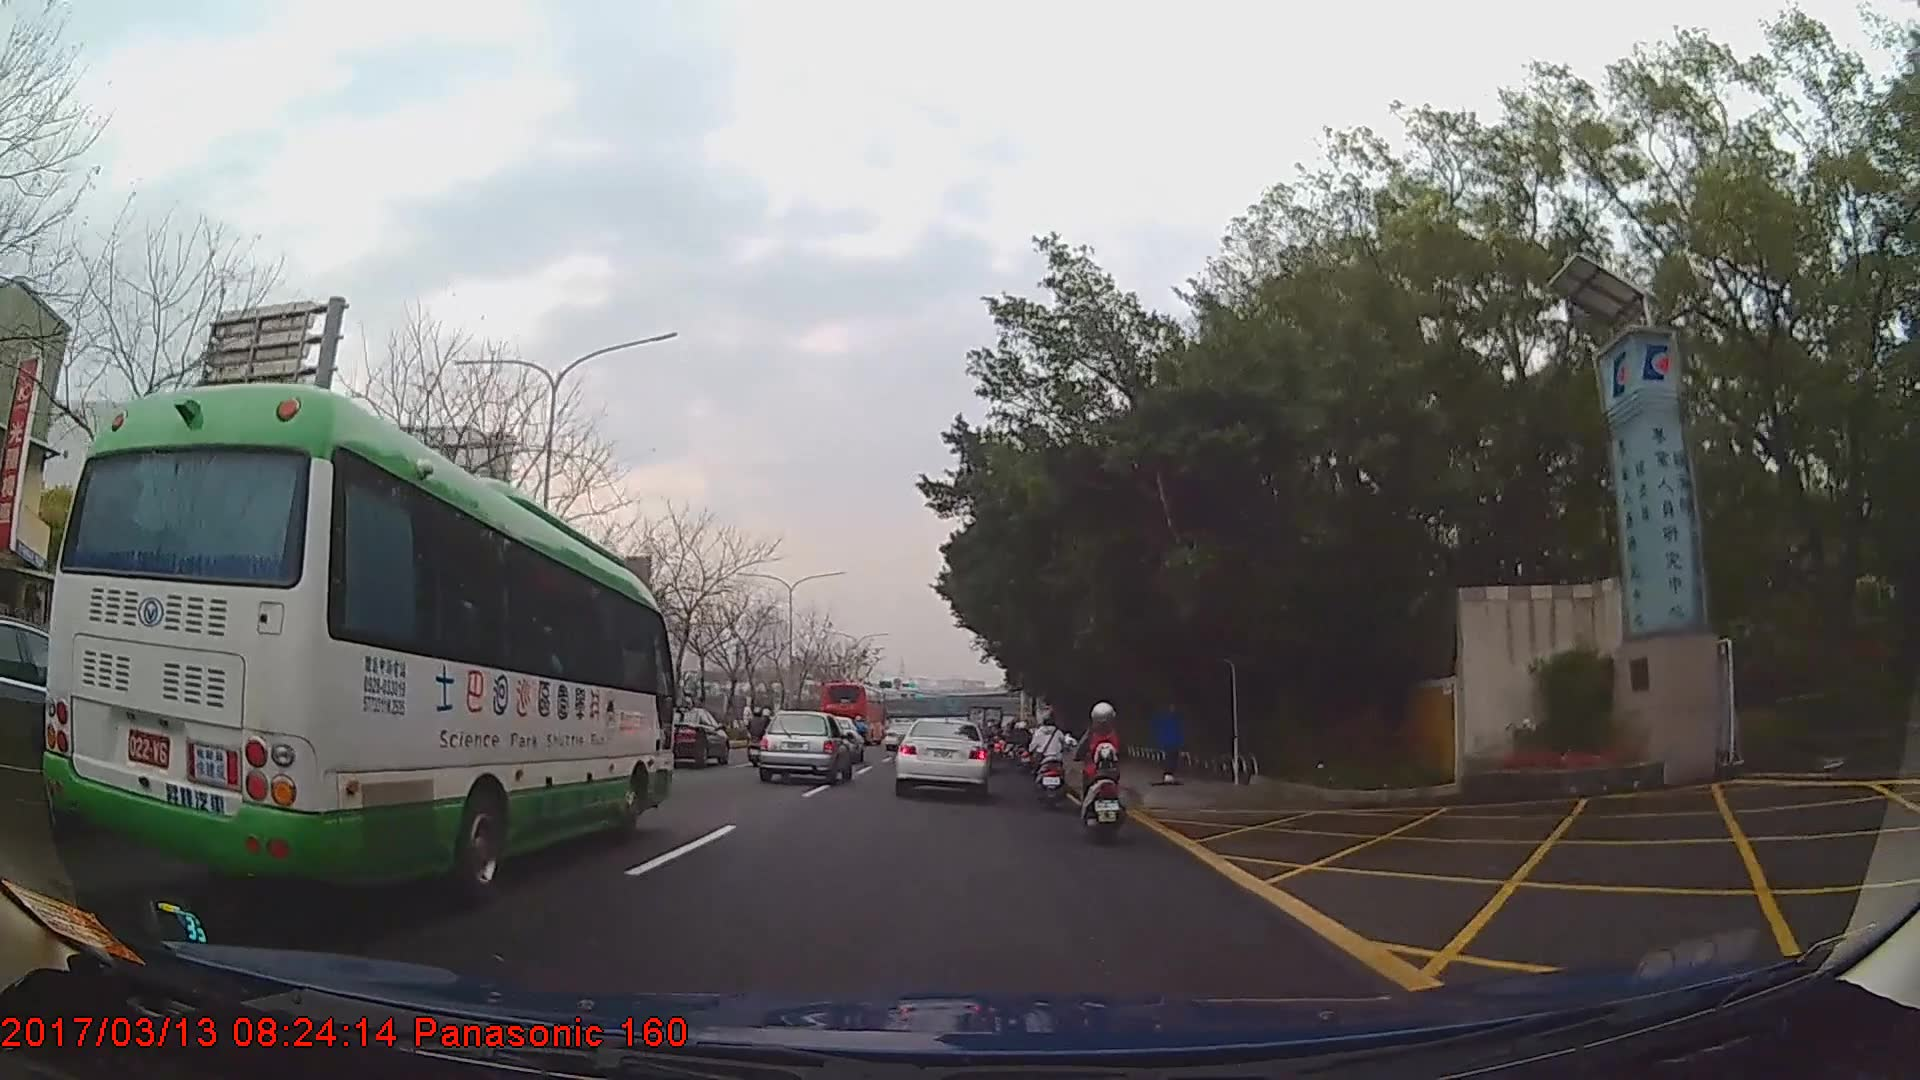pedestrian: (1156, 696, 1188, 784)
rider: (1076, 699, 1128, 832), (1032, 709, 1072, 811), (747, 707, 771, 751)
vehicle: (42, 376, 670, 899), (892, 713, 989, 796), (758, 708, 854, 782), (654, 701, 729, 764), (820, 676, 887, 742)
